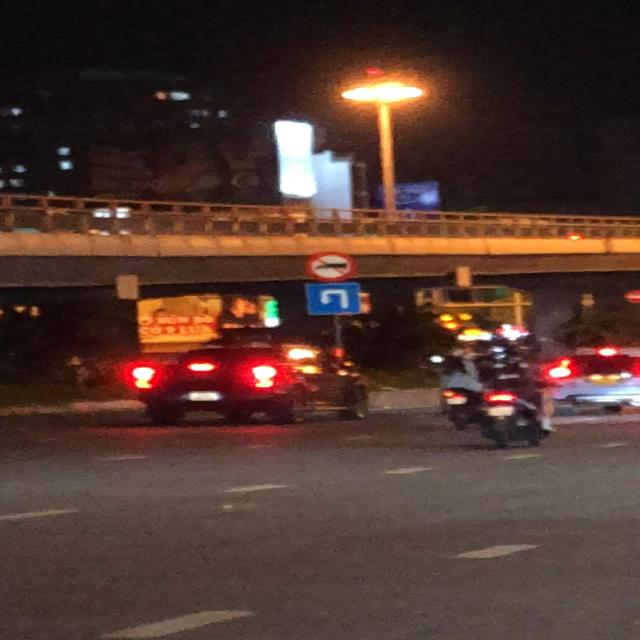Bien bao cam xe so-mi ro-mooc: (301, 250, 358, 282)
